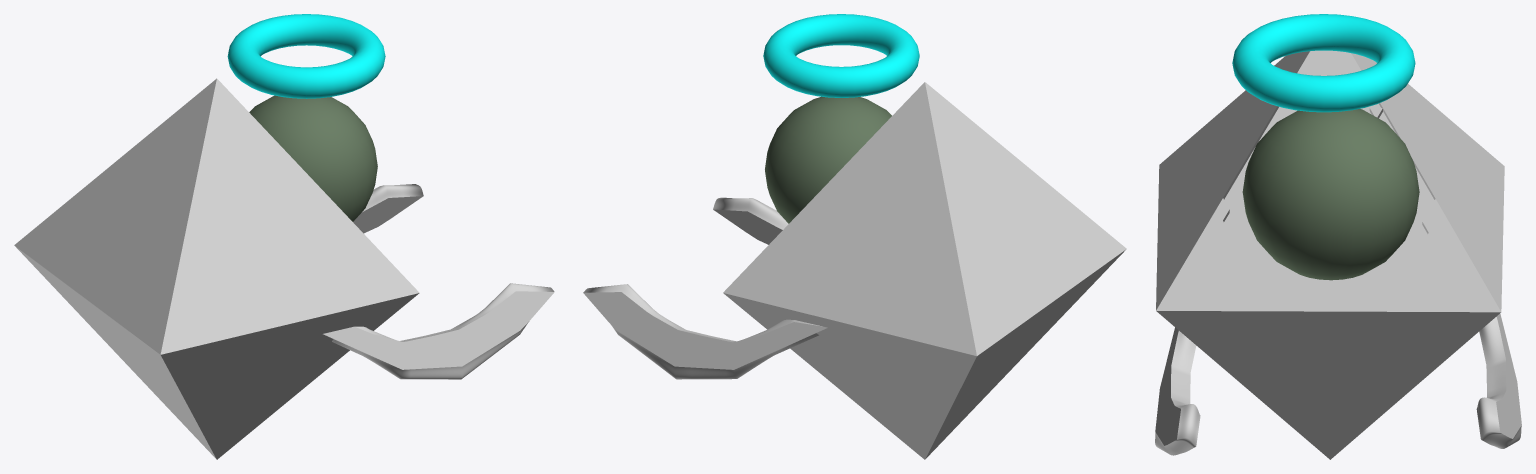
File: Debugging Program [Red].fbx
3 renders of one model, left to right at view 1: azimuth 30°, elevation 25°; view 2: azimuth 150°, elevation 25°; view 3: azimuth 270°, elevation 25°, orthographic. The views are drawn at different scales.
Visible parts, largest first — view 1: Platonic, Torus_1, Sphere, Cap_2, Right_Arm, Cap_2_2, Left_Arm_1; view 2: Platonic, Torus_1, Sphere, Cap_1_2, Left_Arm_1, Cap_1, Right_Arm; view 3: Platonic, Sphere, Torus_1, Left_Arm_1, Right_Arm, Cap_1_2, Cap_2.
Boxes of the visible parts, x1=… form: Platonic: x1=14, y1=78, x2=419, y2=459; Torus_1: x1=227, y1=14, x2=385, y2=98; Sphere: x1=249, y1=95, x2=377, y2=221; Cap_2: x1=323, y1=291, x2=554, y2=369; Right_Arm: x1=332, y1=283, x2=554, y2=379; Cap_2_2: x1=353, y1=196, x2=423, y2=233; Left_Arm_1: x1=362, y1=184, x2=423, y2=211; Platonic: x1=723, y1=82, x2=1126, y2=459; Torus_1: x1=763, y1=14, x2=919, y2=97; Sphere: x1=765, y1=96, x2=891, y2=223; Cap_1_2: x1=583, y1=292, x2=827, y2=369; Left_Arm_1: x1=583, y1=284, x2=821, y2=379; Cap_1: x1=713, y1=209, x2=782, y2=244; Right_Arm: x1=713, y1=197, x2=788, y2=229; Platonic: x1=1156, y1=50, x2=1504, y2=459; Sphere: x1=1242, y1=109, x2=1419, y2=280; Torus_1: x1=1232, y1=14, x2=1415, y2=112; Left_Arm_1: x1=1476, y1=317, x2=1521, y2=448; Right_Arm: x1=1155, y1=331, x2=1200, y2=455; Cap_1_2: x1=1496, y1=313, x2=1521, y2=438; Cap_2: x1=1155, y1=327, x2=1180, y2=445.
Size of the model in its own units: 220 by 209 by 150.
